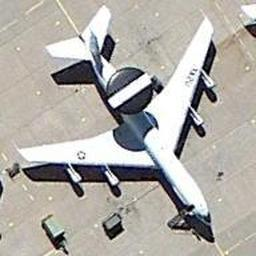Airplane: (14, 4, 231, 225)
